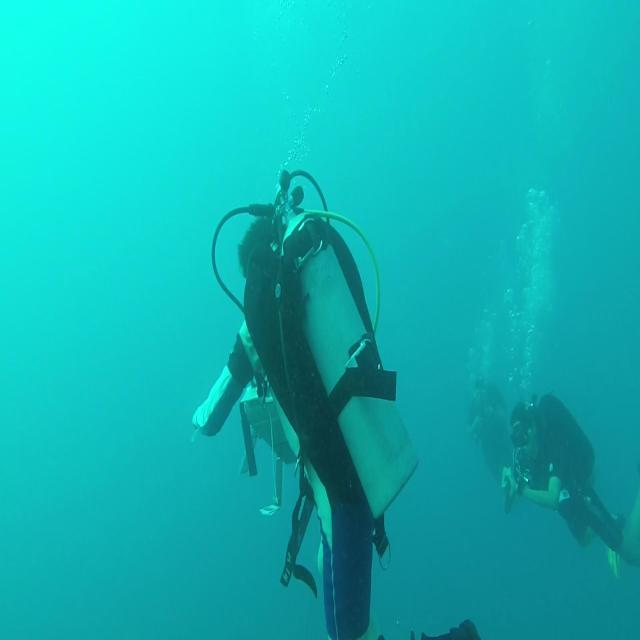human: (192, 168, 418, 638), (500, 390, 630, 574)
